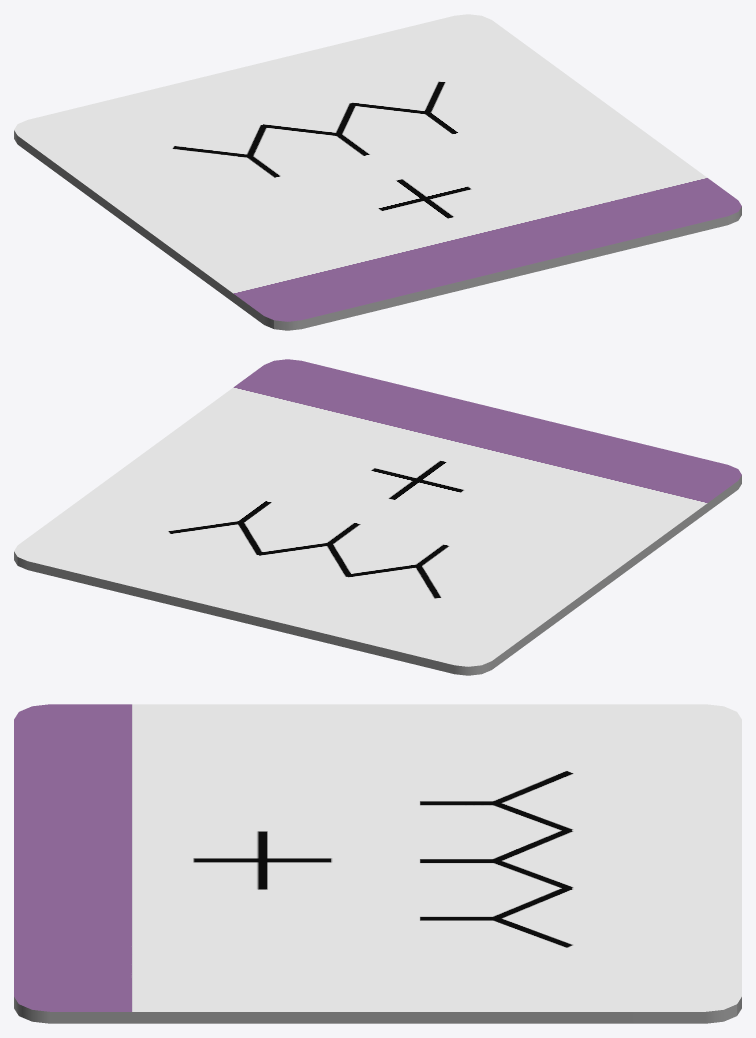
Rendered from Butttton.fbx.
3 views of the same model, one above another, from view 1: azimuth 30°, elevation 25°; view 2: azimuth 150°, elevation 25°; view 3: azimuth 270°, elevation 25° (orthographic). The views are drawn at different scales.
Parts seen in each view (by area): view 1: pCube1; view 2: pCube1; view 3: pCube1.
Part boxes in pixels (box(x1,y1,x2,y2)): pCube1: box(14, 14, 741, 330); pCube1: box(14, 359, 741, 675); pCube1: box(14, 704, 741, 1023).
Size of the model in its own units: 1 by 0.018 by 1.
